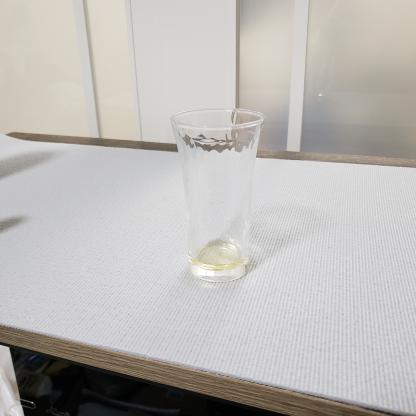glass: (165, 102, 279, 288)
